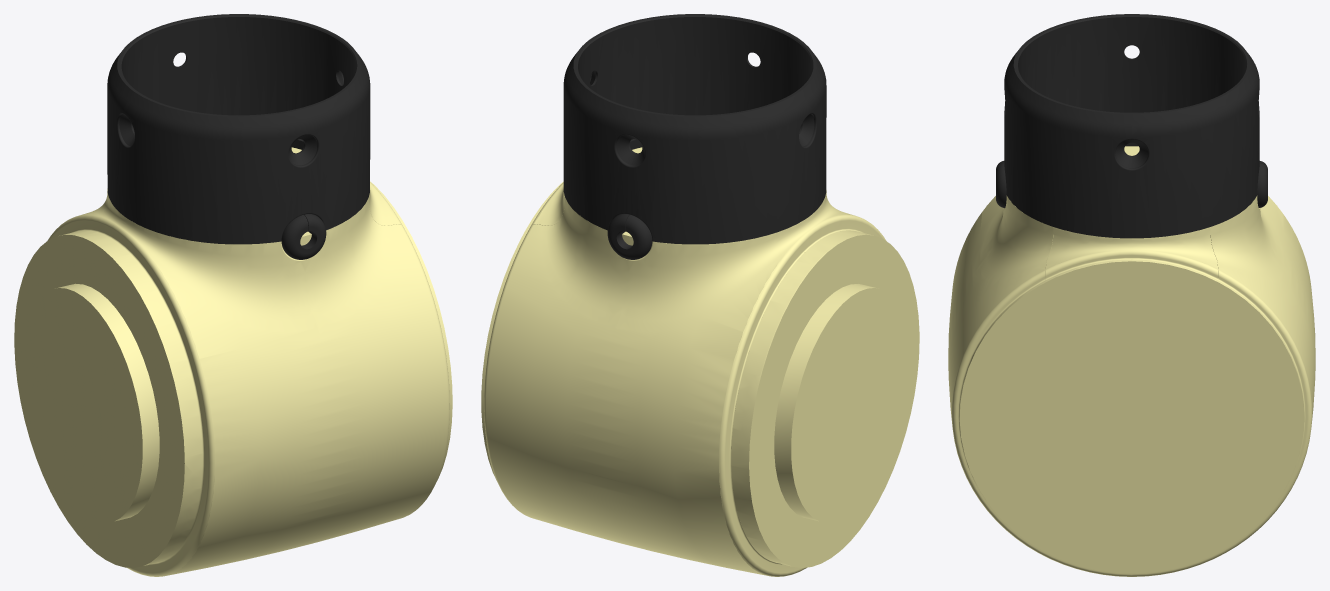
Rendered from wrist_roll_l_j7_link.glb.
3 views of the same model, side by side, from view 1: azimuth 30°, elevation 25°; view 2: azimuth 150°, elevation 25°; view 3: azimuth 270°, elevation 25° (orthographic). The views are drawn at different scales.
Visible parts, largest first — view 1: Mesh_2, Mesh_4, Mesh_3; view 2: Mesh_2, Mesh_4, Mesh_0.005; view 3: Mesh_2, Mesh_4.
Part boxes in pixels (x1,y1,x2,y2): Mesh_2: (14,147,452,576); Mesh_4: (107,14,370,244); Mesh_3: (281,214,326,259); Mesh_2: (481,147,919,576); Mesh_4: (563,14,826,244); Mesh_0.005: (607,214,652,259); Mesh_2: (948,146,1315,576); Mesh_4: (1004,14,1259,238).
Size of the model in its own units: 0.0667 by 0.1072 by 0.0775.
Materials: 3 (2 with a texture image).
